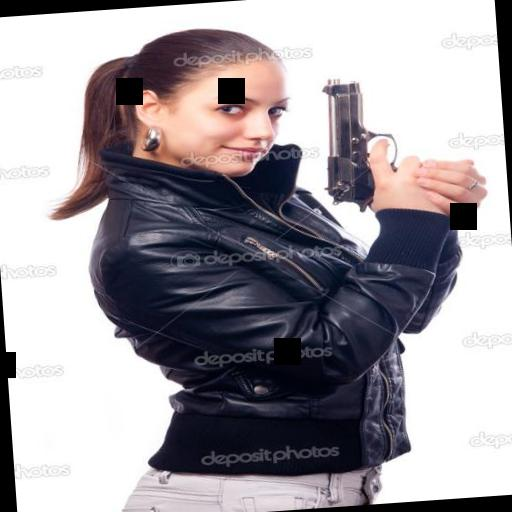Handgun: (316, 68, 472, 209)
